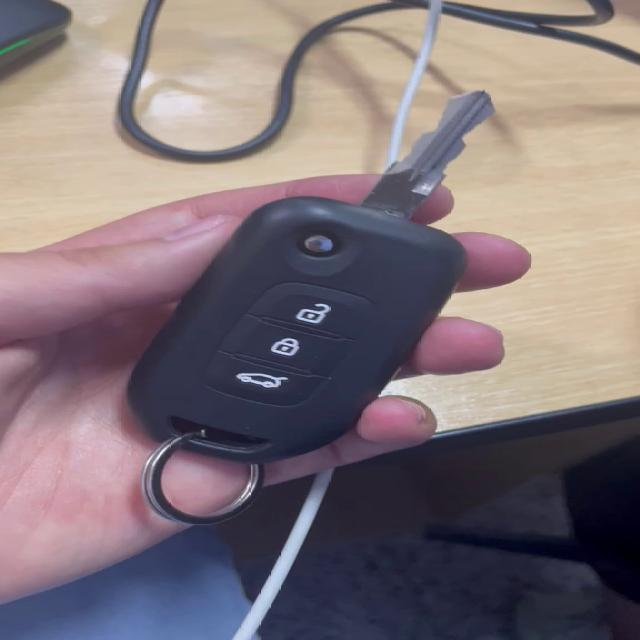llave-auto: (117, 89, 495, 514)
